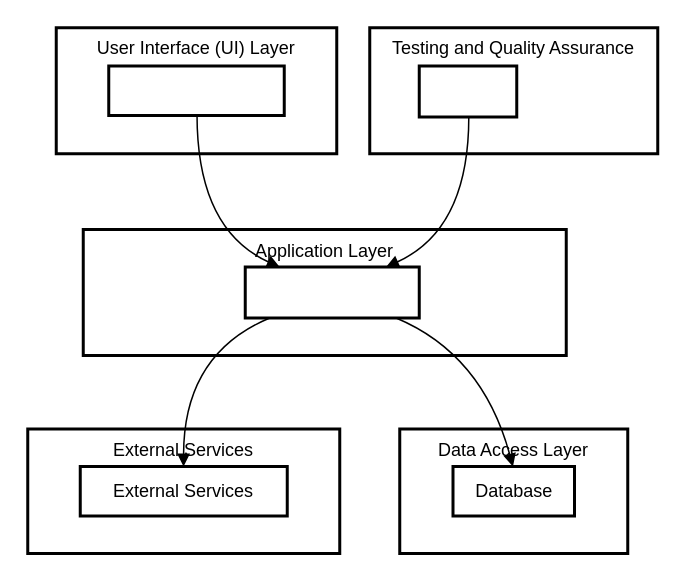
This 684x581 diagram has some shape labels left out. The centre of each missing label's shape, as x and y in pixels:
Business Logic: point (331, 292)
Testing: point (467, 91)
User Interface: point (195, 90)
